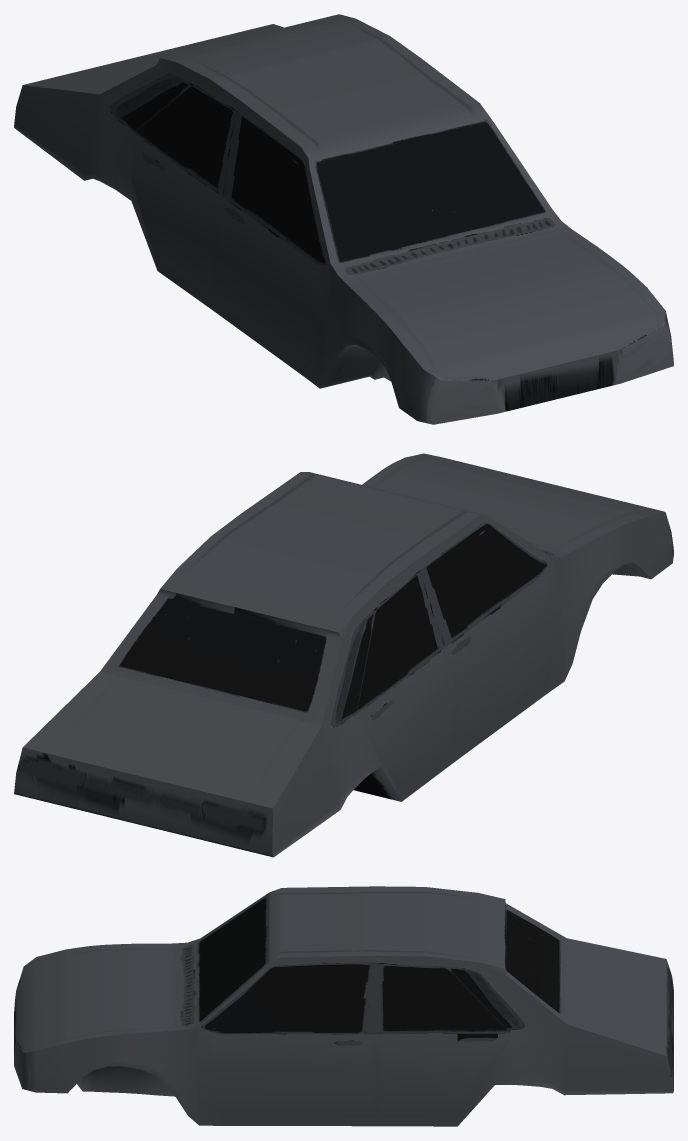
File: lp-berline-grise.glb
3 views of the same model, one above another, from view 1: azimuth 30°, elevation 25°; view 2: azimuth 150°, elevation 25°; view 3: azimuth 270°, elevation 25° (orthographic). The views are drawn at different scales.
Visible parts, largest first — view 1: Object_26; view 2: Object_26; view 3: Object_26.
Boxes of the visible parts, left/top/right/bottom form: Object_26: left=14, top=14, right=673, bottom=424; Object_26: left=14, top=453, right=673, bottom=857; Object_26: left=14, top=886, right=673, bottom=1126.
Bounding box in the file's own units: 2.07 × 1.52 × 5.75.
1 material, 1 textured.
